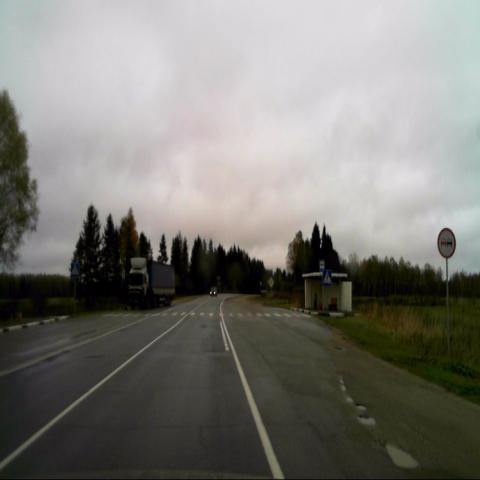3_20: (436, 227, 456, 260)
